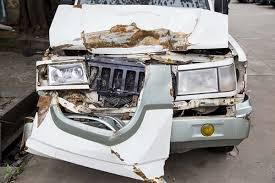Headlight-Damage: (37, 55, 93, 99)
bonnet-dent: (56, 6, 213, 65)
front-bumper-dent: (59, 78, 158, 142)
